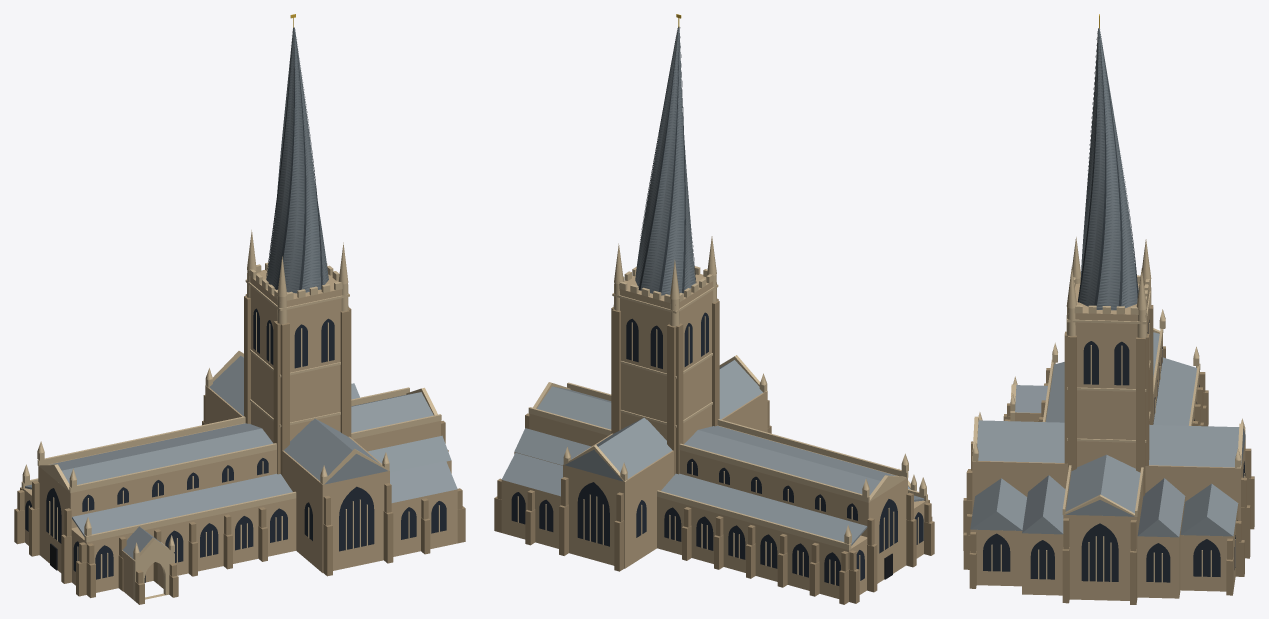
Rendered from crooked-spire-b55.glb.
3 renders of one model, left to right at view 1: azimuth 30°, elevation 25°; view 2: azimuth 150°, elevation 25°; view 3: azimuth 270°, elevation 25°, orthographic. The views are drawn at different scales.
Size of the model in its own units: 5.56 by 7.13 by 3.62.
